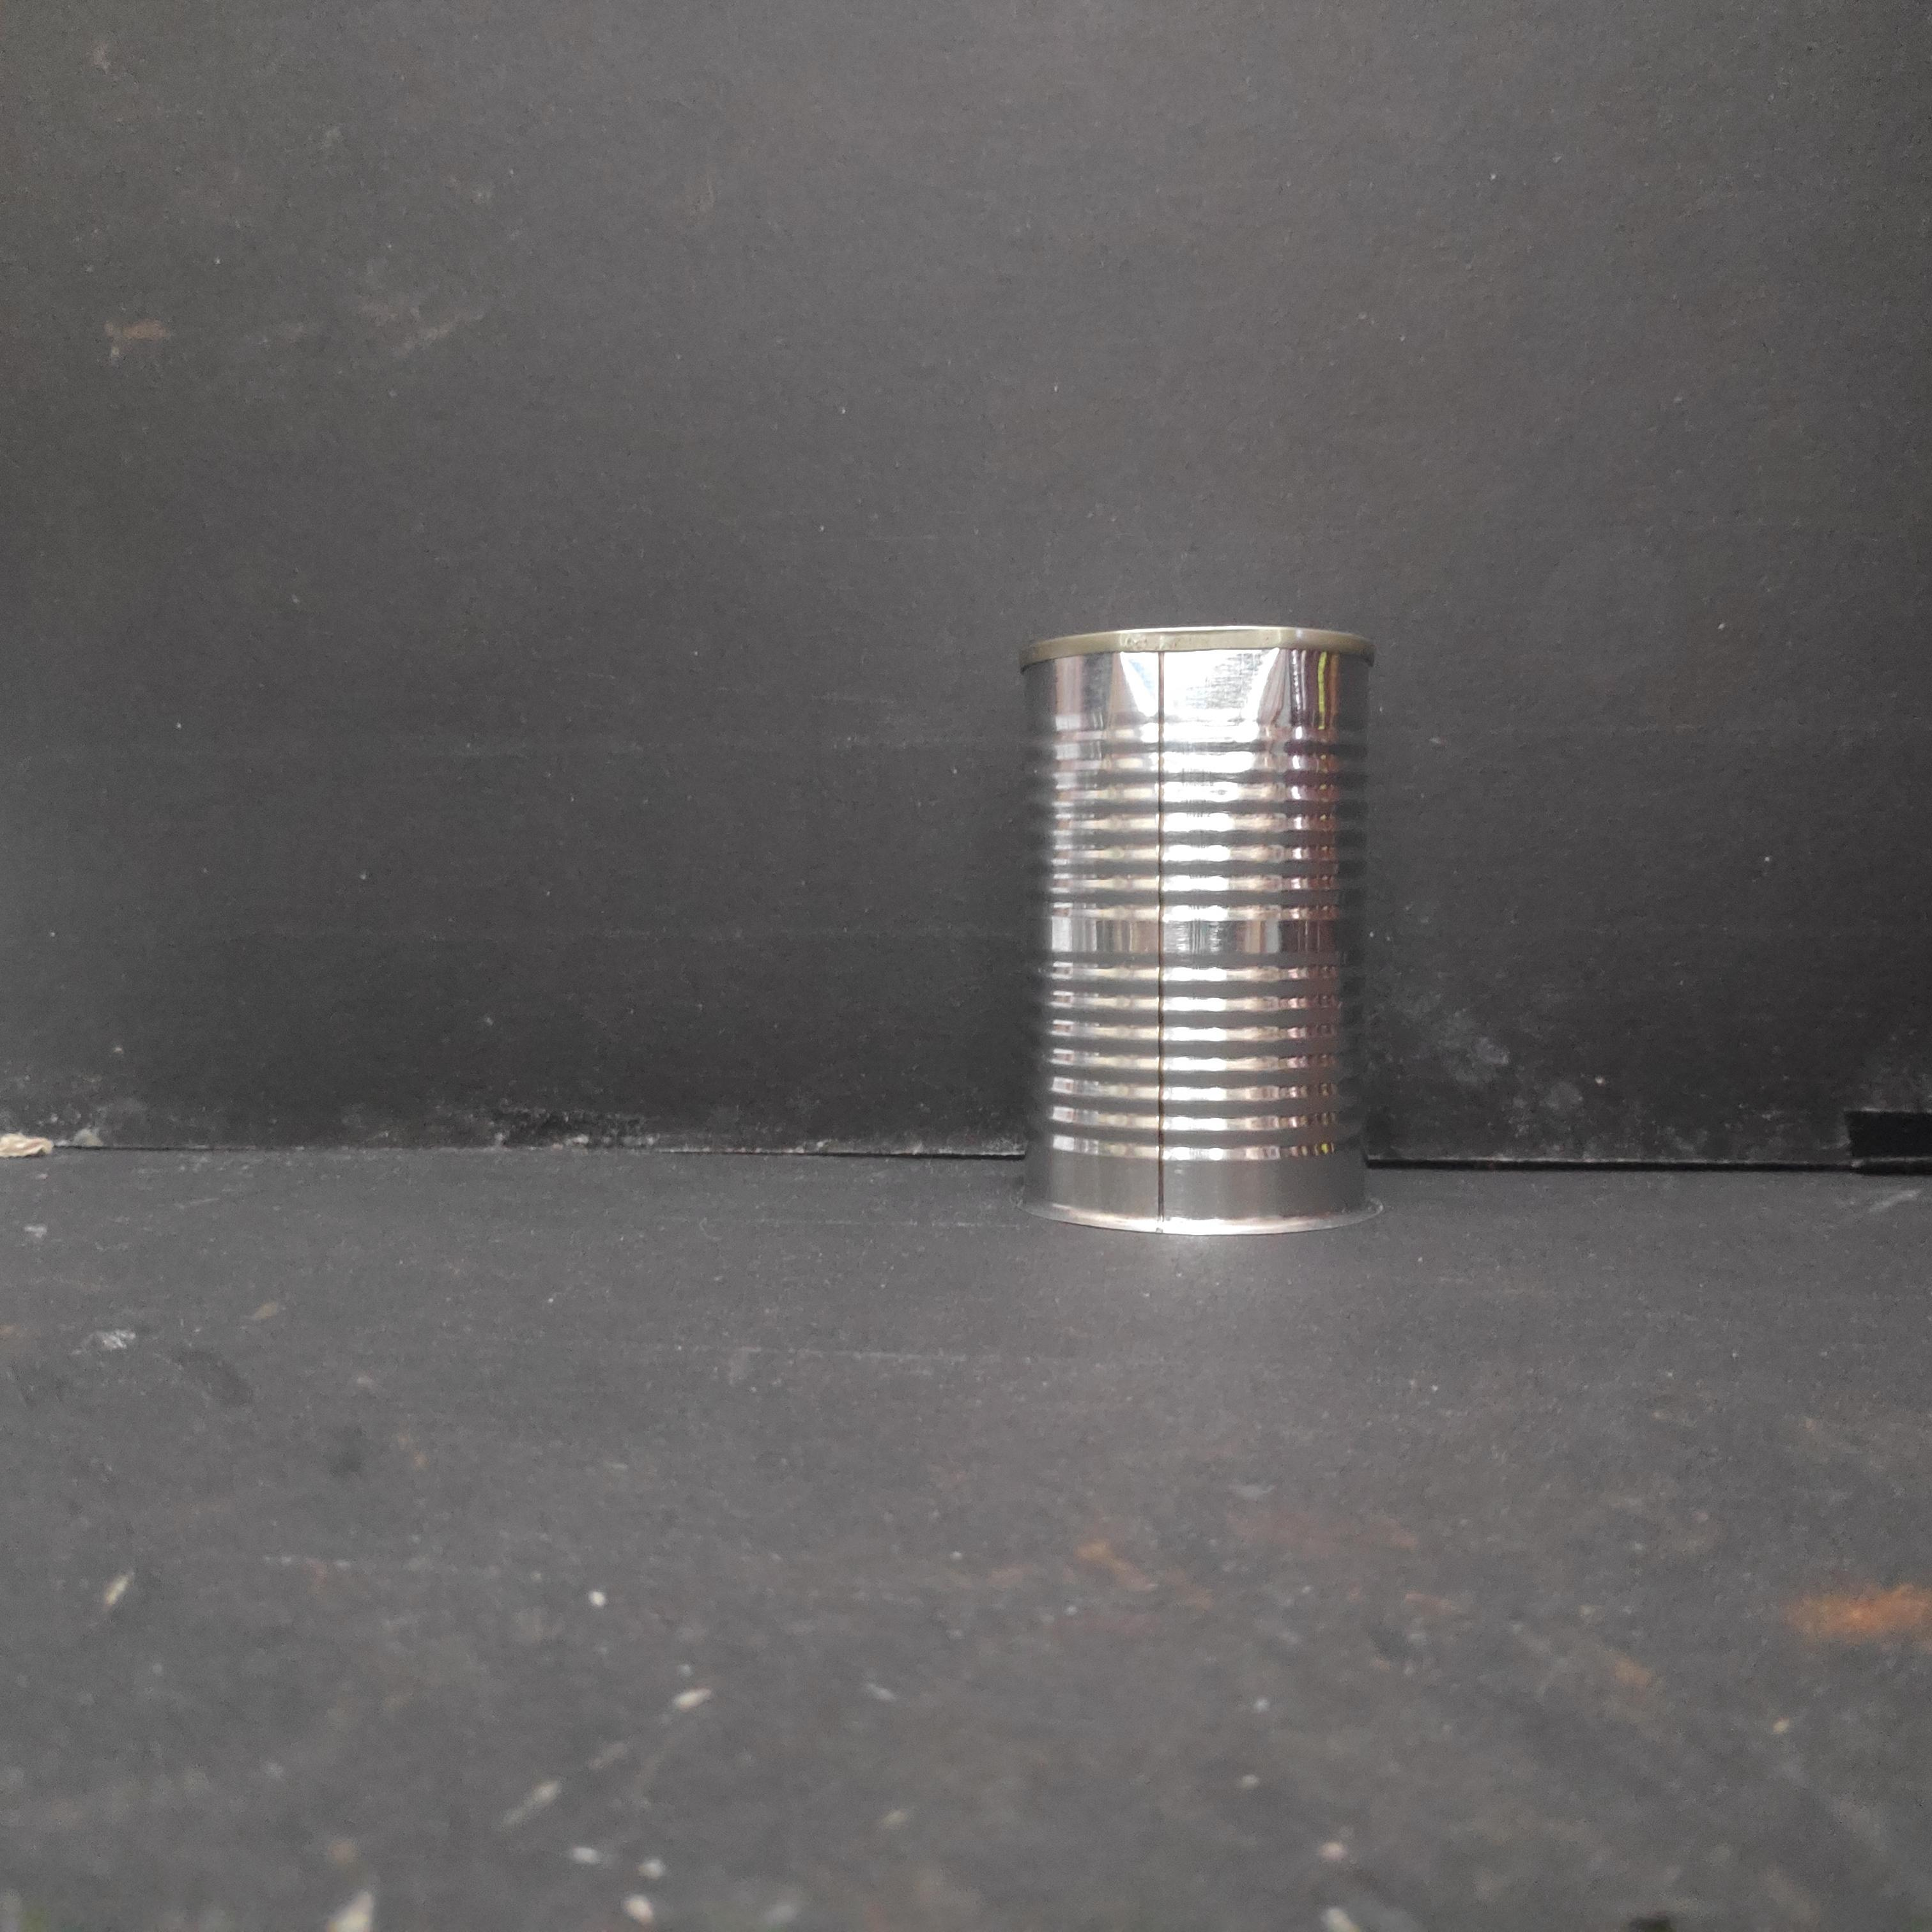Minor Defect: (1017, 614, 1389, 1255)
